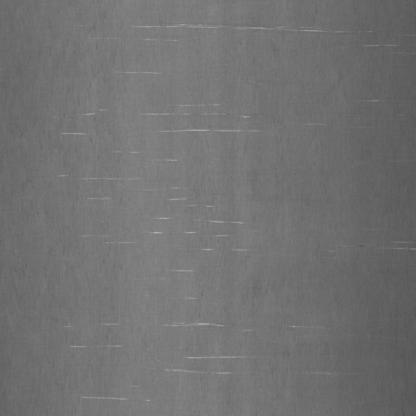waist_folding: (50, 20, 378, 389)
